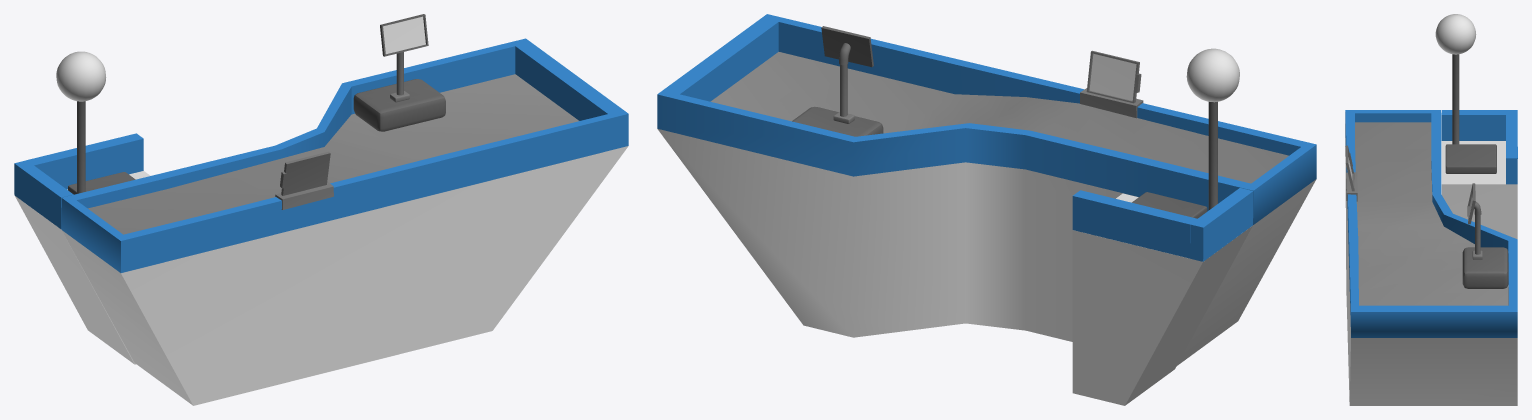
The model's file is Safe.fbx.
3 views of the same model, side by side, from view 1: azimuth 30°, elevation 25°; view 2: azimuth 150°, elevation 25°; view 3: azimuth 270°, elevation 25° (orthographic). The views are drawn at different scales.
Visible parts, largest first — view 1: Safe1; view 2: Safe1; view 3: Safe1.
Part boxes in pixels (box(x1,y1,x2,y2)): Safe1: box(14, 14, 628, 405); Safe1: box(657, 14, 1316, 405); Safe1: box(1345, 14, 1517, 405).
Bounding box in the file's own units: 211 × 124 × 76.15.
